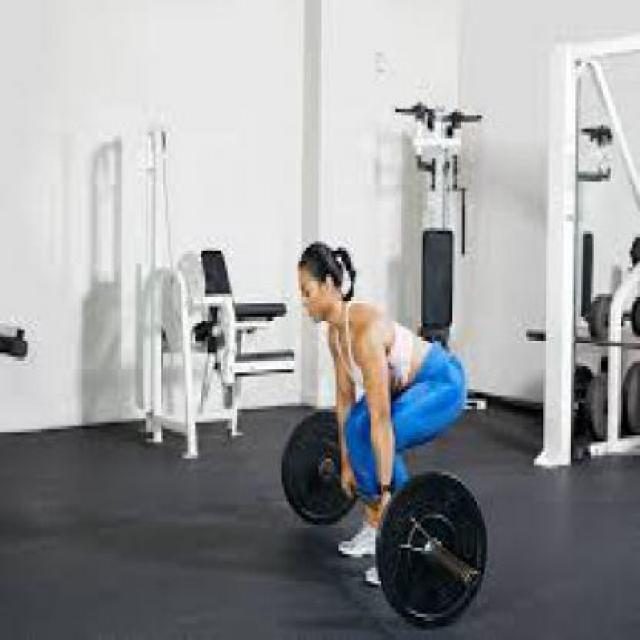Barbell: (463, 564, 483, 598)
